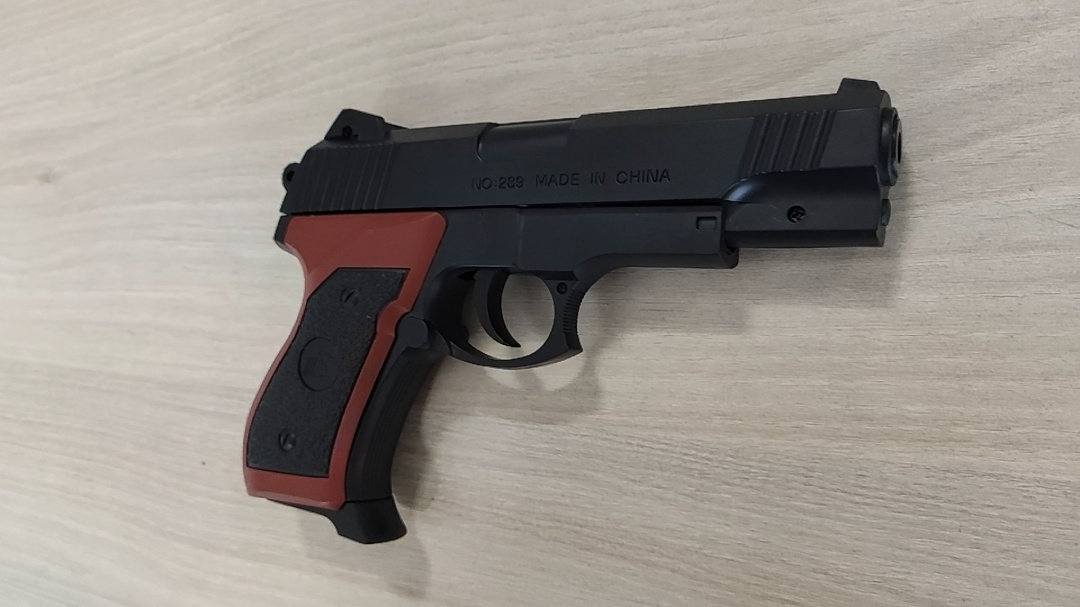gun: (229, 73, 911, 544)
